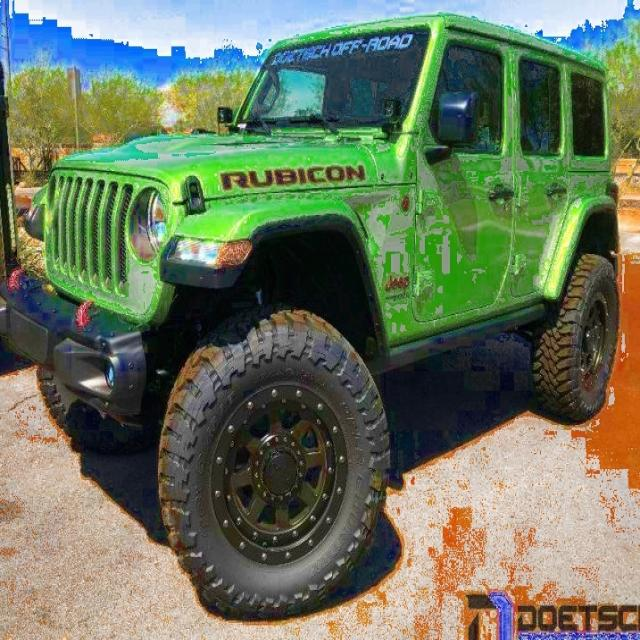green: (30, 7, 627, 543)
